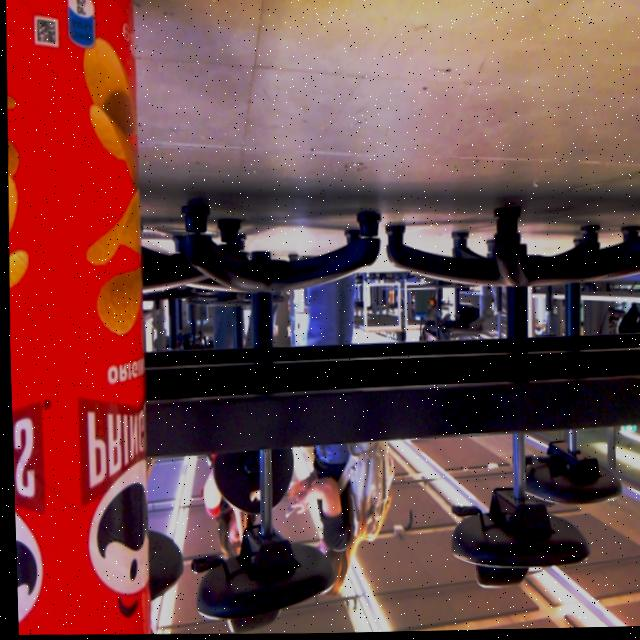redpringles: (0, 0, 208, 637)
